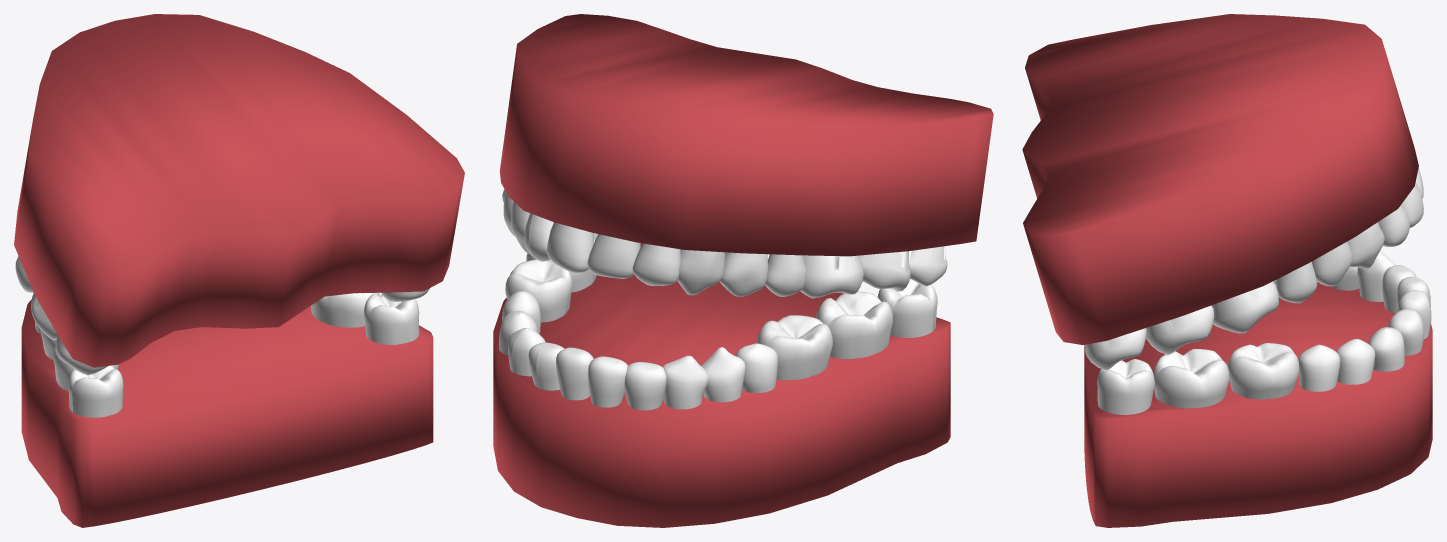
The model's file is teeth.1eecf98d7224.glb.
3 renders of one model, left to right at view 1: azimuth 30°, elevation 25°; view 2: azimuth 150°, elevation 25°; view 3: azimuth 270°, elevation 25°, orthographic. The views are drawn at different scales.
Parts seen in each view (by area): view 1: Cylinder.001_Material.001_0, Cylinder.002_Material.001_0, Teeth.015, Teeth, Teeth.001, Teeth.031, Teeth.030; view 2: Cylinder.001_Material.001_0, Cylinder.002_Material.001_0, Teeth.014, Teeth.013, Teeth.002, Teeth.015, Teeth.029, Teeth.010, Teeth.011, Teeth.023, Teeth.024, Teeth.009 (+14 smaller); view 3: Cylinder.001_Material.001_0, Cylinder.002_Material.001_0, Teeth.001, Teeth.002, Teeth, Teeth.018, Teeth.017, Teeth.003, Teeth.016, Teeth.004, Teeth.005, Teeth.019 (+9 smaller).
Boxes of the visible parts, left/top/right/bottom form: Cylinder.001_Material.001_0: left=14, top=14, right=464, bottom=367; Cylinder.002_Material.001_0: left=21, top=299, right=433, bottom=527; Teeth.015: left=68, top=365, right=123, bottom=417; Teeth: left=364, top=294, right=419, bottom=344; Teeth.001: left=311, top=292, right=379, bottom=327; Teeth.031: left=56, top=336, right=107, bottom=375; Teeth.030: left=31, top=293, right=57, bottom=340; Cylinder.001_Material.001_0: left=499, top=14, right=993, bottom=256; Cylinder.002_Material.001_0: left=493, top=243, right=950, bottom=527; Teeth.014: left=816, top=291, right=892, bottom=359; Teeth.013: left=757, top=315, right=832, bottom=380; Teeth.002: left=505, top=259, right=572, bottom=322; Teeth.015: left=877, top=279, right=937, bottom=337; Teeth.029: left=800, top=255, right=863, bottom=298; Teeth.010: left=662, top=355, right=708, bottom=409; Teeth.011: left=701, top=347, right=745, bottom=402; Teeth.023: left=546, top=222, right=593, bottom=273; Teeth.024: left=587, top=234, right=640, bottom=278; Teeth.009: left=624, top=362, right=666, bottom=410; Cylinder.001_Material.001_0: left=1022, top=14, right=1418, bottom=344; Cylinder.002_Material.001_0: left=1084, top=282, right=1432, bottom=527; Teeth.001: left=1153, top=349, right=1229, bottom=408; Teeth.002: left=1227, top=343, right=1299, bottom=399; Teeth: left=1097, top=359, right=1154, bottom=414; Teeth.018: left=1211, top=281, right=1278, bottom=333; Teeth.017: left=1146, top=305, right=1214, bottom=355; Teeth.003: left=1298, top=344, right=1340, bottom=391; Teeth.016: left=1084, top=328, right=1146, bottom=370; Teeth.004: left=1336, top=339, right=1375, bottom=384; Teeth.005: left=1368, top=327, right=1404, bottom=371; Teeth.019: left=1275, top=262, right=1317, bottom=303.
Size of the model in its own units: 2.67 by 2.44 by 2.4.
